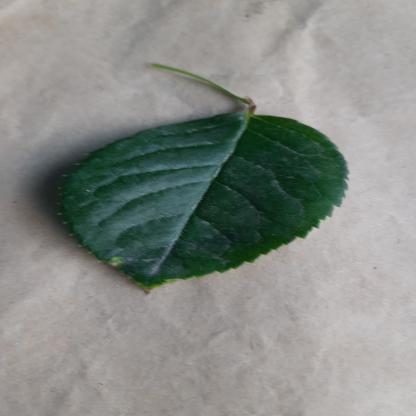normal: (44, 112, 354, 292)
